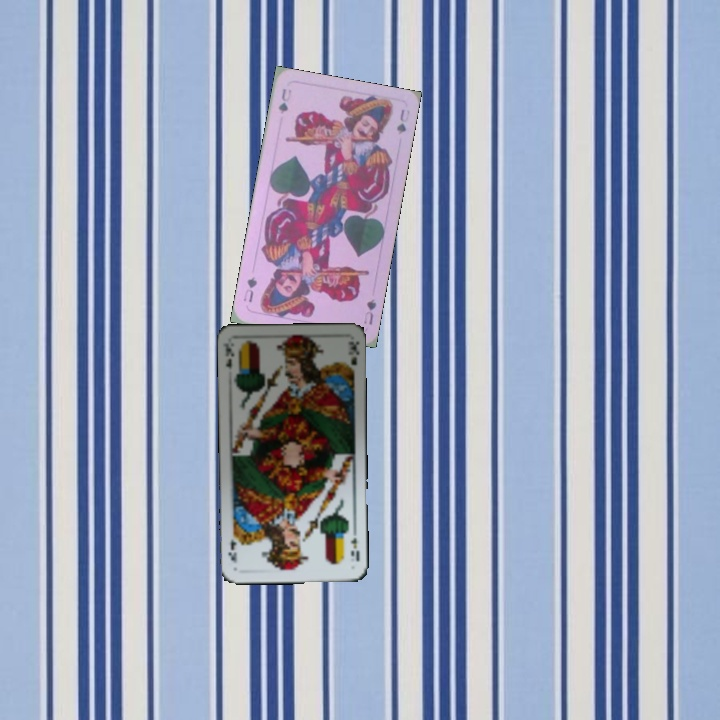EK: (220, 339, 237, 372), (346, 533, 362, 564)
GU: (359, 295, 379, 327), (274, 85, 294, 116)
